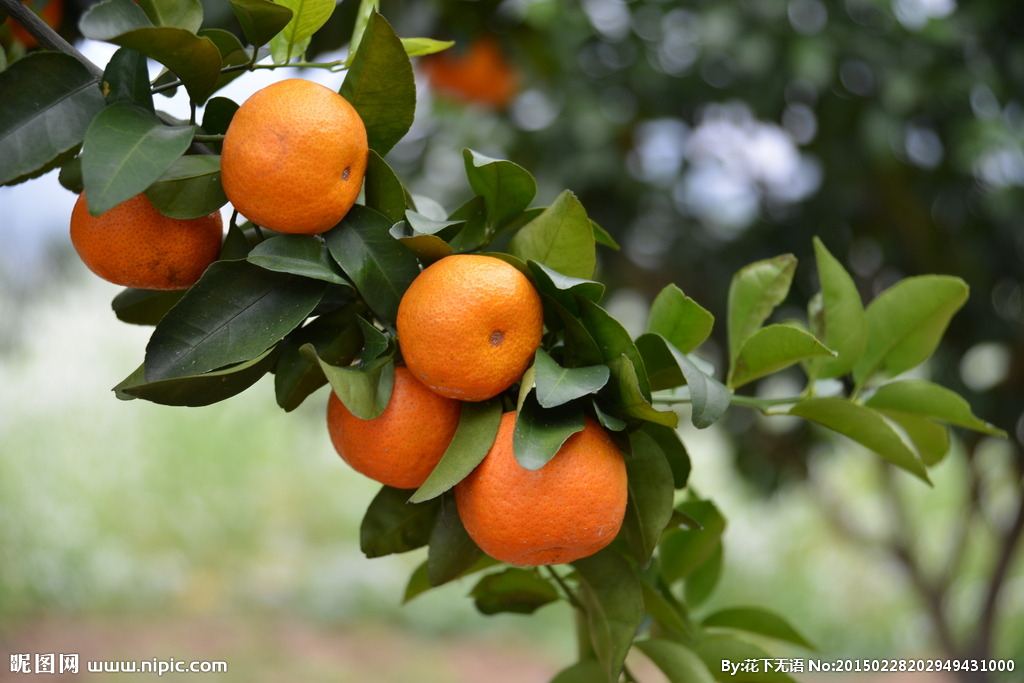orange: (459, 405, 629, 568), (222, 77, 366, 236), (398, 252, 544, 406), (327, 347, 471, 487), (70, 160, 217, 289)
